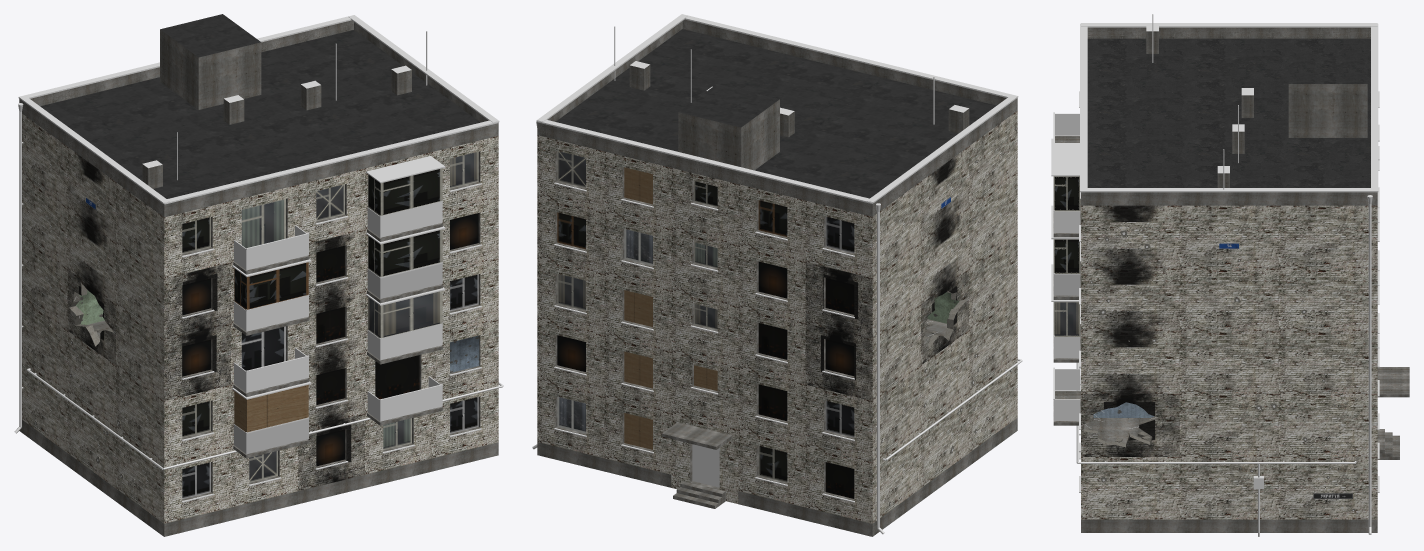
File: S1U_KH_Brickburnt.fbx
3 views of the same model, side by side, from view 1: azimuth 30°, elevation 25°; view 2: azimuth 150°, elevation 25°; view 3: azimuth 270°, elevation 25° (orthographic). The views are drawn at different scales.
Visible parts, largest first — view 1: S1U_KH_Brickburnt; view 2: S1U_KH_Brickburnt; view 3: S1U_KH_Brickburnt.
Boxes of the visible parts, bbox=[...] form: S1U_KH_Brickburnt: bbox=[14, 14, 503, 536]; S1U_KH_Brickburnt: bbox=[532, 14, 1022, 536]; S1U_KH_Brickburnt: bbox=[1051, 14, 1409, 536].
Size of the model in its own units: 16.79 by 17.28 by 14.5.
